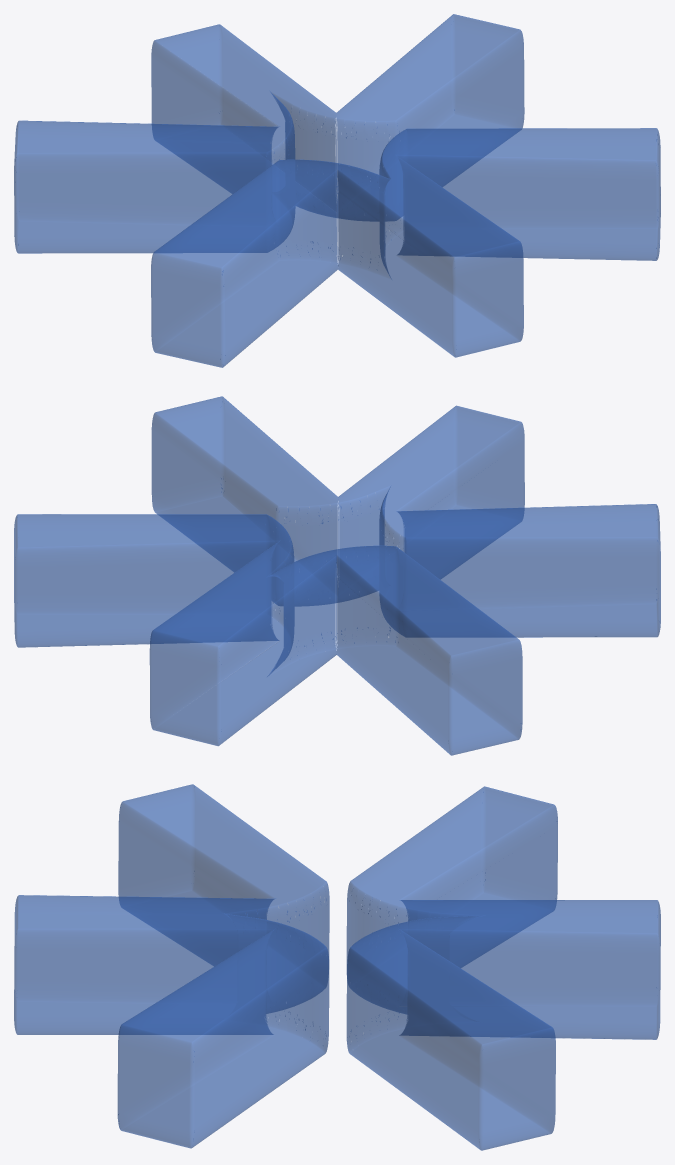
The picture shows the model from 3 angles, top to bottom: view 1: azimuth 30°, elevation 25°; view 2: azimuth 150°, elevation 25°; view 3: azimuth 270°, elevation 25°; orthographic projection. The views are drawn at different scales.
Visible parts, largest first — view 1: Curve.001; view 2: Curve.001; view 3: Curve.001.
Part boxes in pixels (box(x1,y1,x2,y2)): Curve.001: box(14, 14, 660, 367); Curve.001: box(14, 396, 660, 755); Curve.001: box(14, 784, 660, 1150).
Size of the model in its own units: 0.1634 by 0.0321 by 0.1698.
